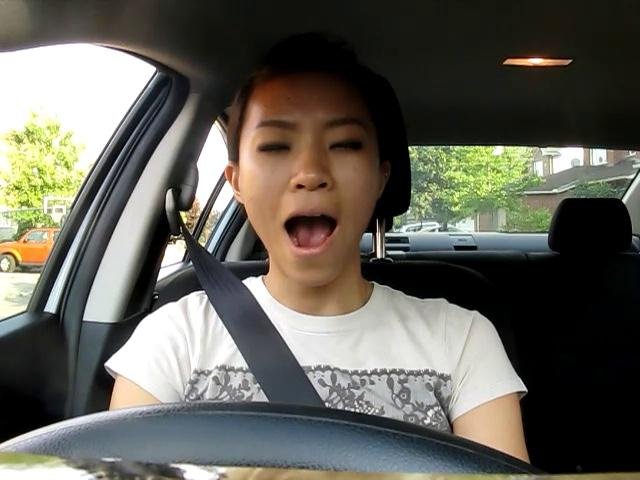close_eyeL: (243, 129, 305, 167)
close_eyeR: (311, 129, 383, 166)
yawn: (266, 198, 356, 262)
